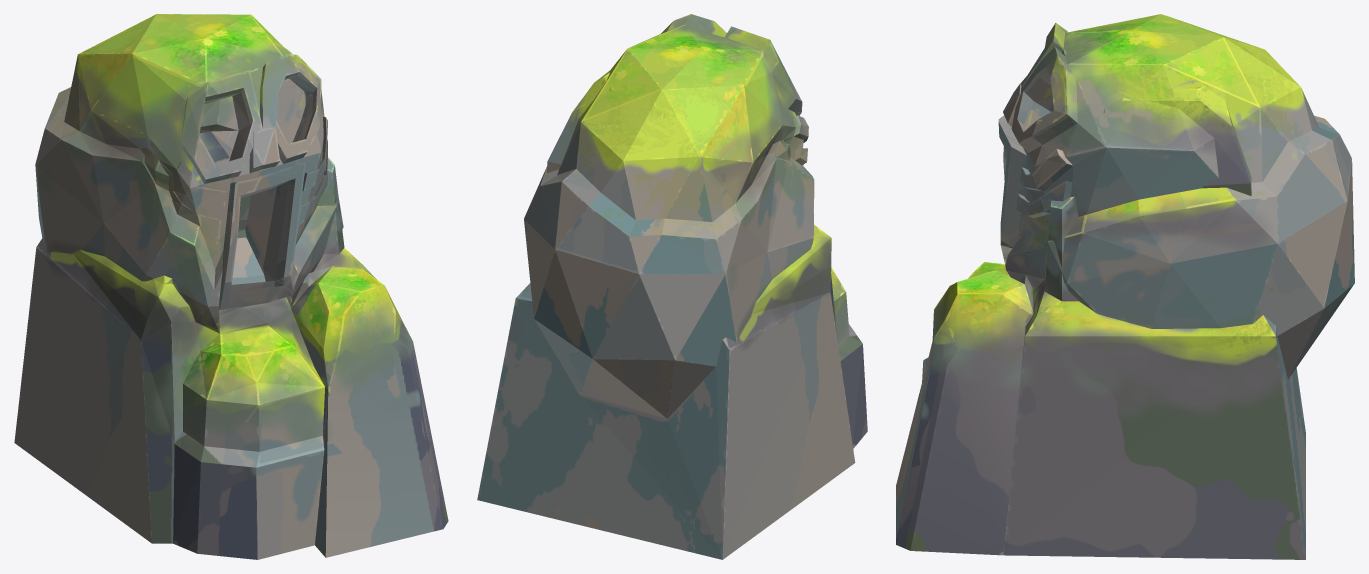
Rendered from s_ROCK_04.fbx.
3 views of the same model, side by side, from view 1: azimuth 30°, elevation 25°; view 2: azimuth 150°, elevation 25°; view 3: azimuth 270°, elevation 25° (orthographic). The views are drawn at different scales.
Parts seen in each view (by area): view 1: S_ROCK04_UV; view 2: S_ROCK04_UV; view 3: S_ROCK04_UV.
Part boxes in pixels (box(x1,y1,x2,y2)): S_ROCK04_UV: box(14, 14, 448, 559); S_ROCK04_UV: box(477, 14, 867, 559); S_ROCK04_UV: box(896, 14, 1354, 559).
Size of the model in its own units: 546 by 905 by 828.
1 material, 1 textured.
